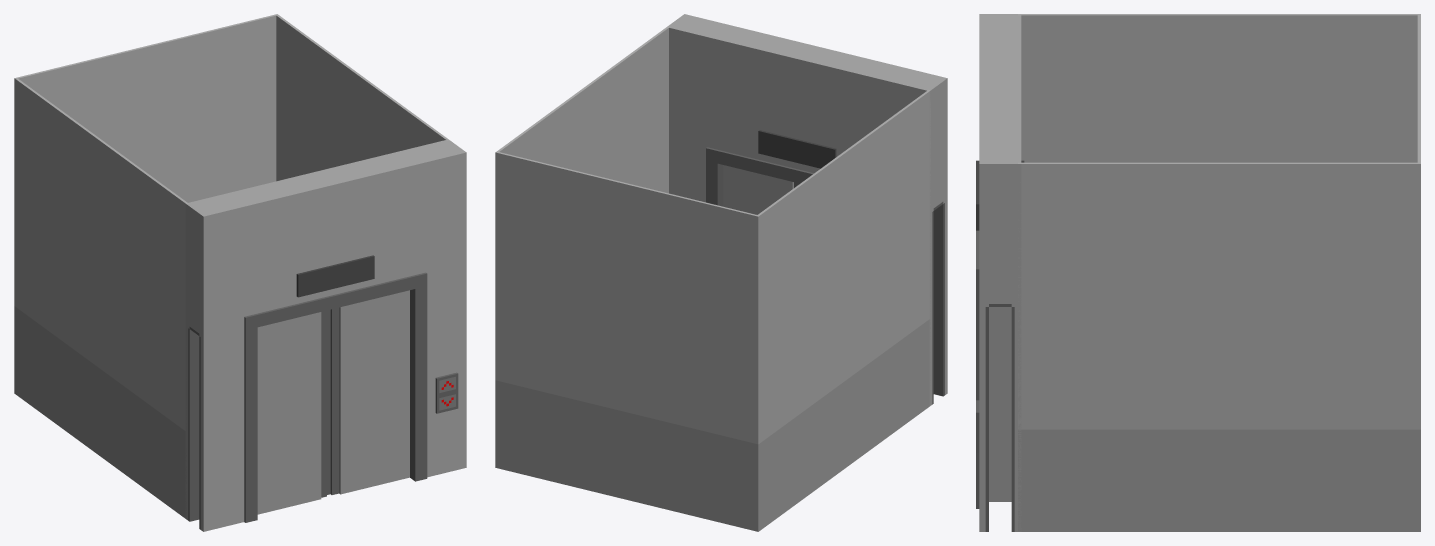
Rendered from Elevator_2.fbx.
3 renders of one model, left to right at view 1: azimuth 30°, elevation 25°; view 2: azimuth 150°, elevation 25°; view 3: azimuth 270°, elevation 25°, orthographic. The views are drawn at different scales.
Parts seen in each view (by area): view 1: Elevator_Body_2, Elevator_Door_1-1.001, Elevator_Door_1-1, Elevator_Door_1-1.002; view 2: Elevator_Body_2, Elevator_Door_1-1.001, Elevator_Door_1-1; view 3: Elevator_Body_2, Elevator_Door_1-1.001, Elevator_Door_1-1.
Boxes of the visible parts, x1,y1,x2,y2 form: Elevator_Body_2: (14, 14, 449, 519); Elevator_Door_1-1.001: (185, 140, 466, 531); Elevator_Door_1-1: (328, 290, 409, 494); Elevator_Door_1-1.002: (257, 310, 328, 514); Elevator_Body_2: (495, 26, 930, 531); Elevator_Door_1-1.001: (668, 14, 947, 406); Elevator_Door_1-1: (723, 165, 799, 214); Elevator_Body_2: (1018, 14, 1420, 531); Elevator_Door_1-1.001: (976, 14, 1024, 531); Elevator_Door_1-1: (989, 307, 1011, 501).
Bounding box in the file's own units: 1100 × 1260 × 1380.
